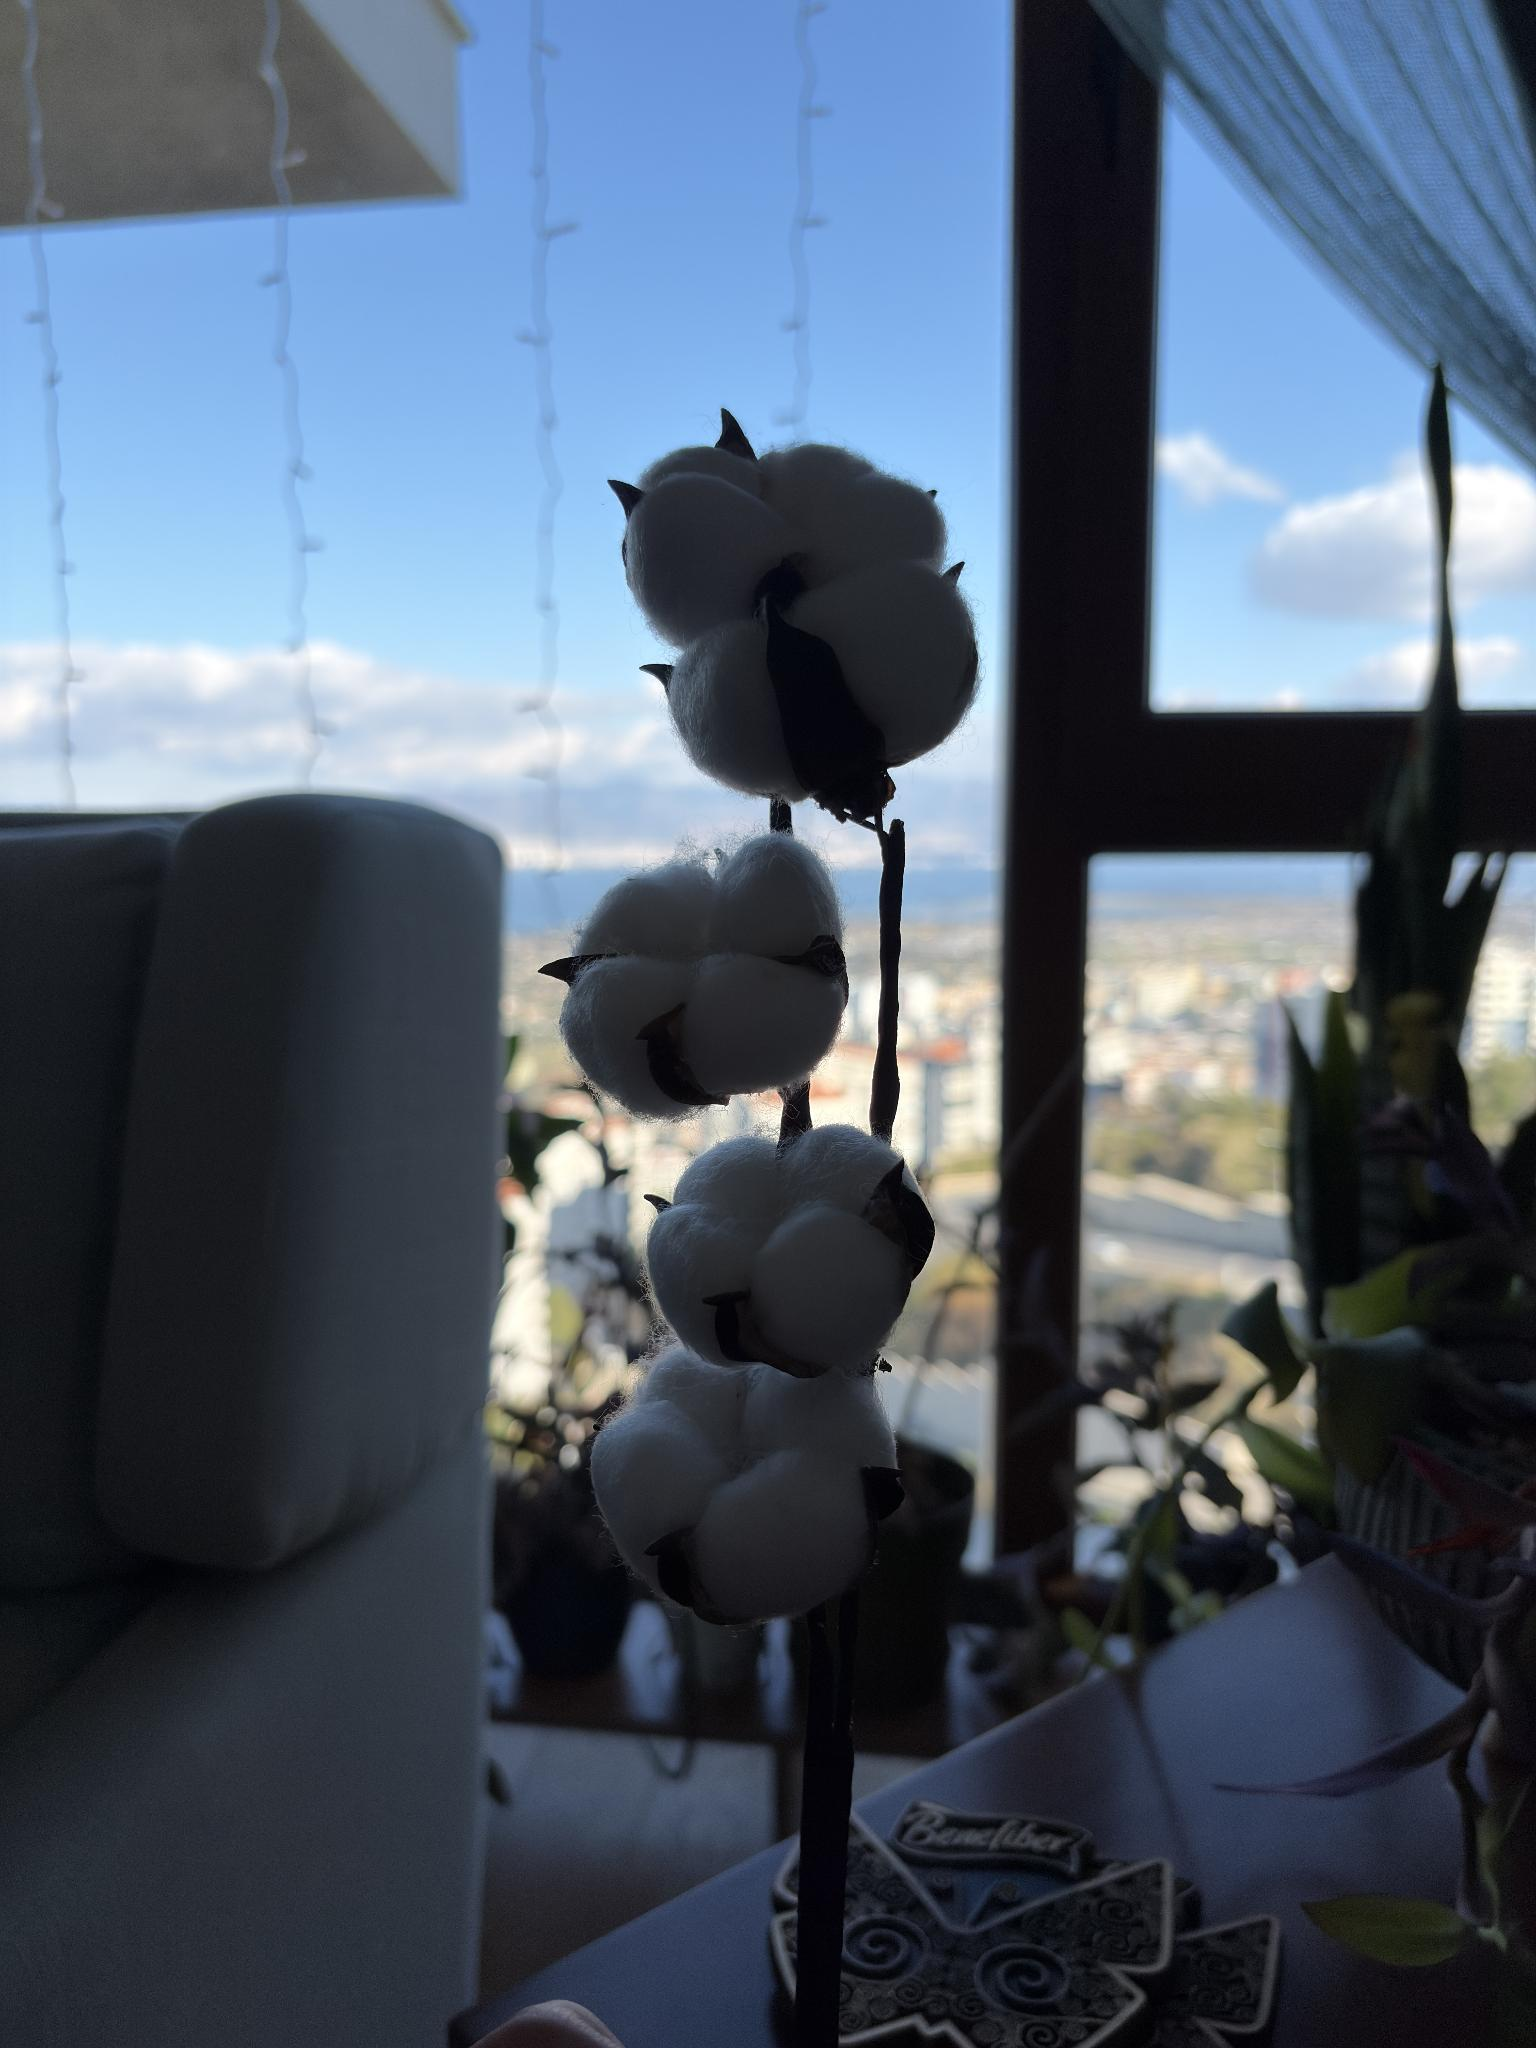cotton_boll: (787, 561, 978, 766), (621, 472, 802, 647), (694, 1450, 868, 1621), (757, 443, 945, 587), (750, 1203, 910, 1371), (592, 1400, 731, 1582), (666, 621, 805, 798), (678, 953, 845, 1097), (560, 956, 694, 1121), (647, 1201, 760, 1364), (708, 834, 842, 959), (742, 1366, 894, 1467), (636, 1347, 757, 1463), (579, 860, 715, 961), (758, 443, 881, 539), (779, 1124, 904, 1214), (674, 1137, 779, 1235), (637, 445, 762, 497)
cotton_boll-cluster: (602, 397, 979, 824), (532, 826, 865, 1119), (587, 1343, 913, 1630), (639, 1121, 941, 1369)
